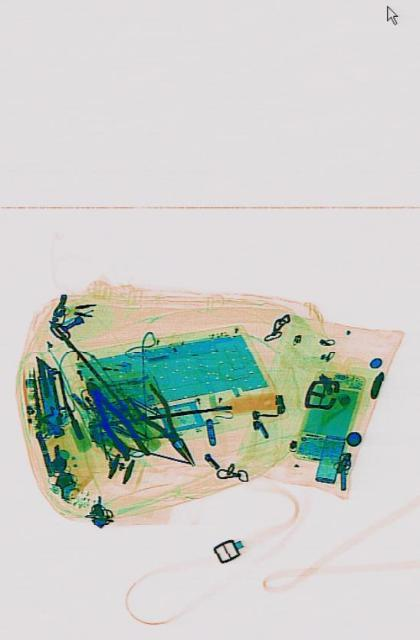Pliers: (124, 370, 203, 478), (78, 370, 149, 472)
